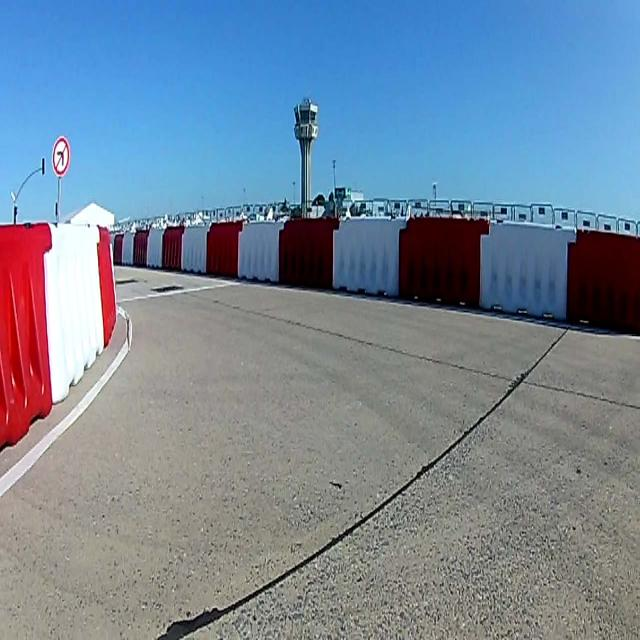soladonulmez: (52, 137, 70, 175)
